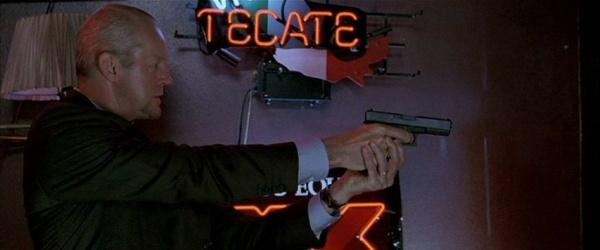Gun: (363, 109, 453, 145)
